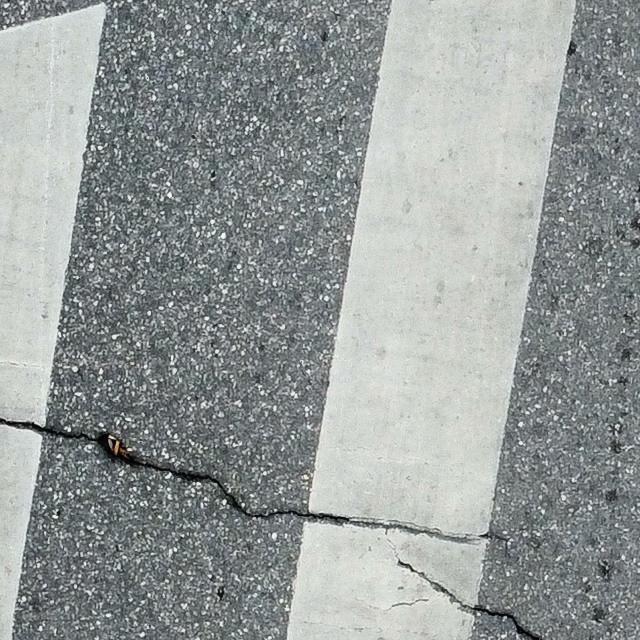TransverseCrack: (1, 418, 509, 549), (394, 557, 541, 640)
